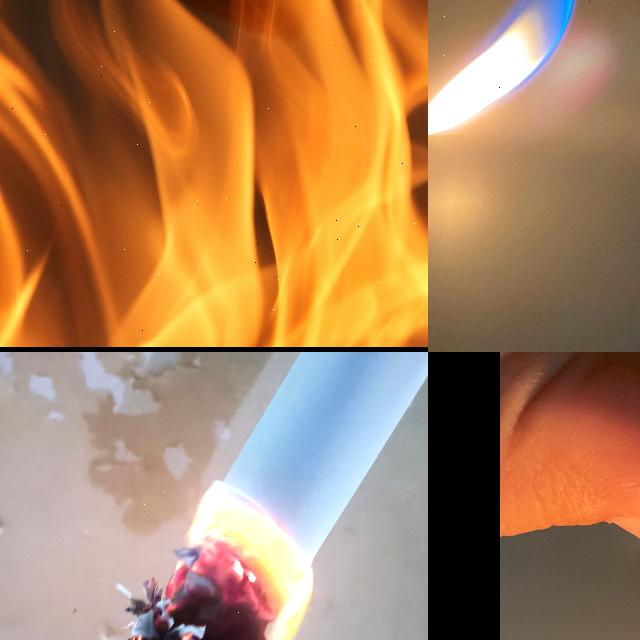fire: (0, 0, 428, 346), (126, 484, 312, 640), (428, 0, 573, 133)
